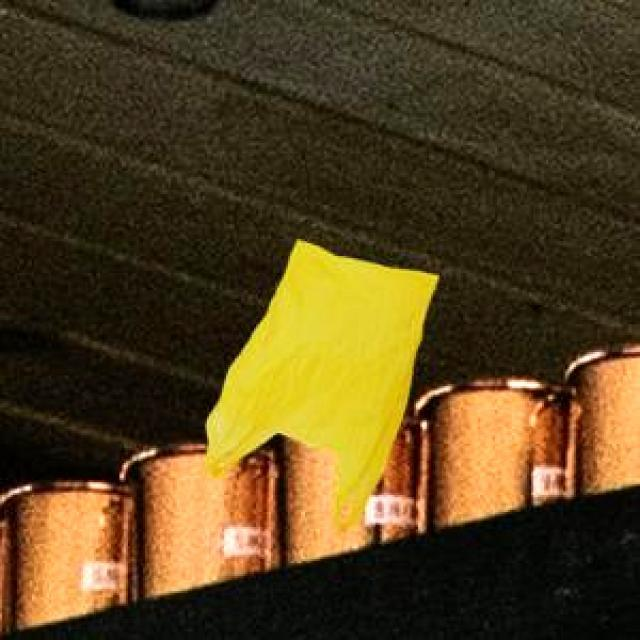Plastic_Bag: (200, 238, 434, 530)
